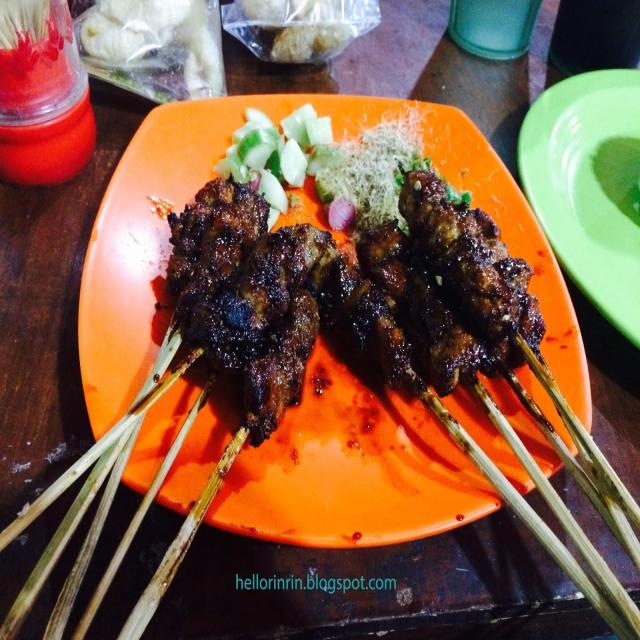Sate: (118, 175, 608, 640)
